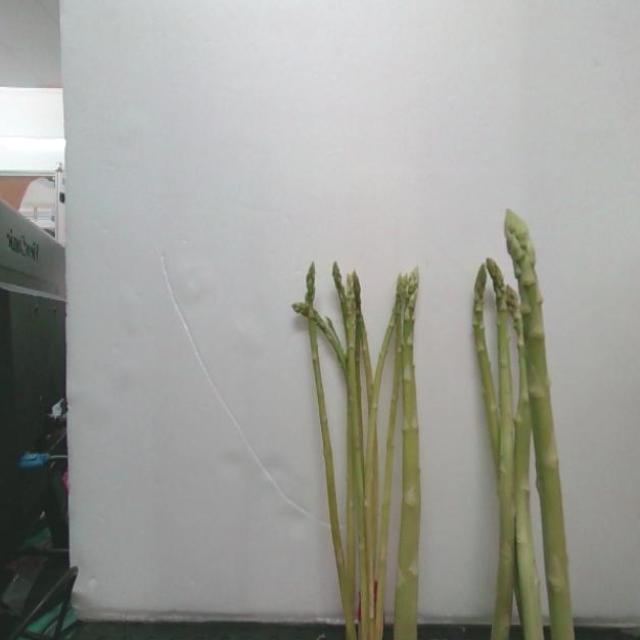aspargus: (505, 208, 572, 640)
